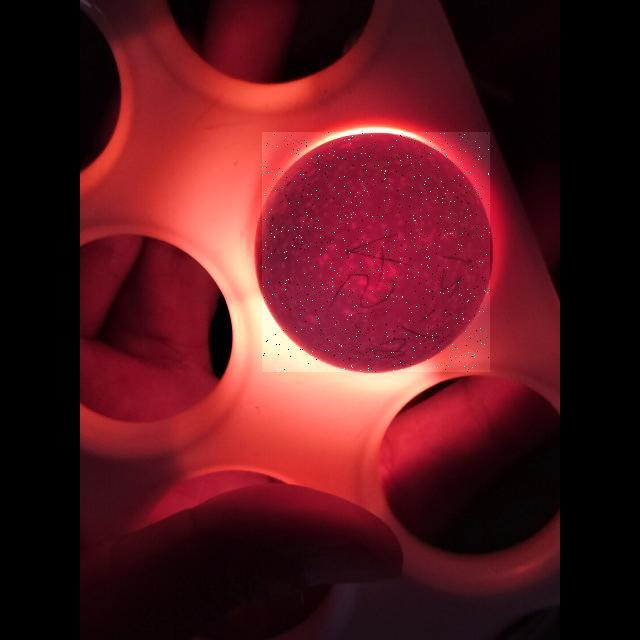B - Fair: (262, 132, 490, 372)
